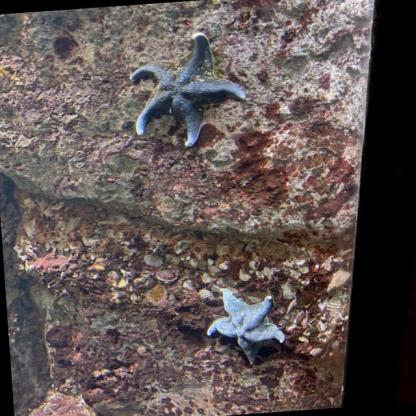starfish: (126, 29, 249, 150), (203, 284, 287, 368)
